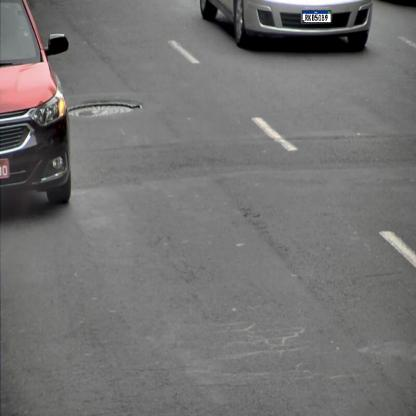PlacaM: (302, 10, 331, 23)
